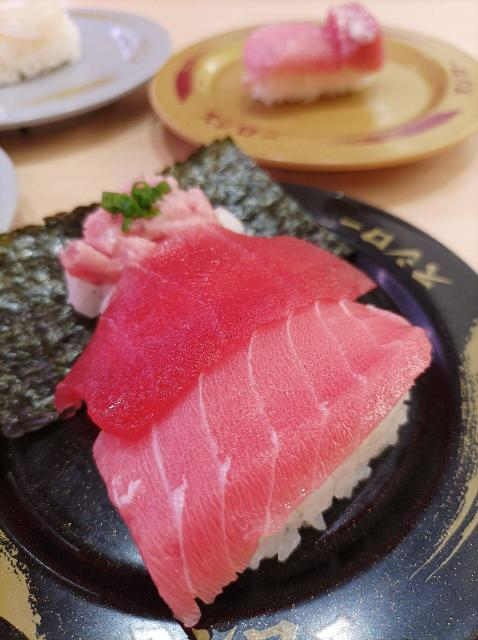janback: (0, 212, 478, 639)
jangold: (162, 16, 478, 169)
janwhite: (0, 0, 159, 126), (0, 129, 43, 231)
